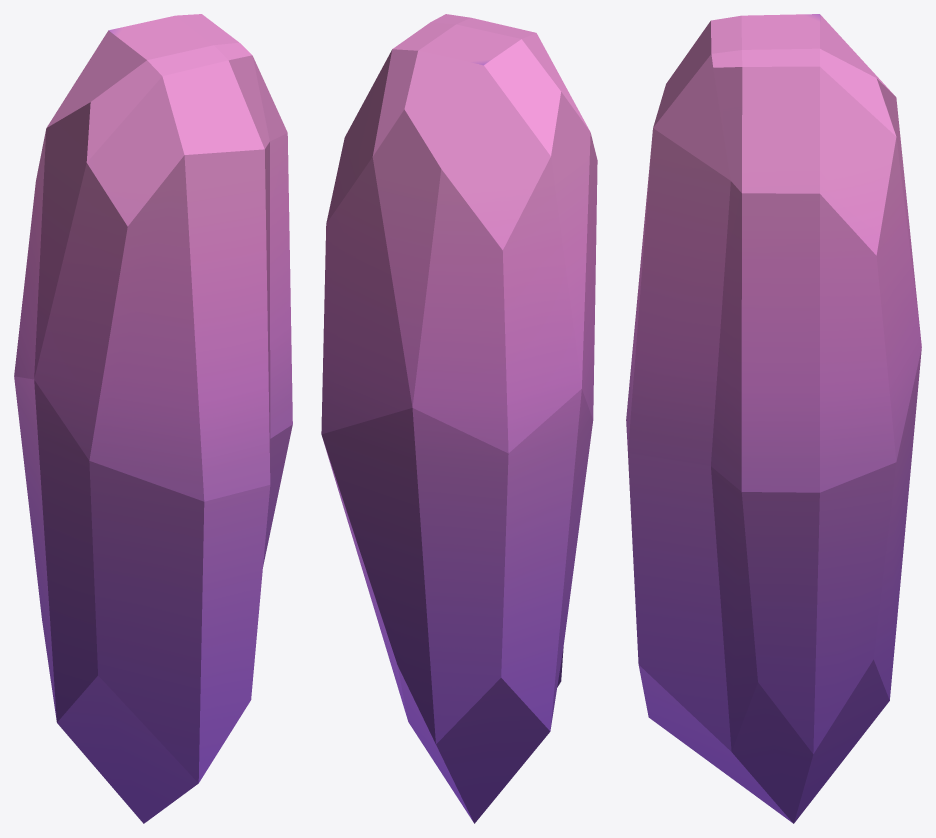
The model's file is Terrain_4.FBX.
The picture shows the model from 3 angles, left to right: view 1: azimuth 30°, elevation 25°; view 2: azimuth 150°, elevation 25°; view 3: azimuth 270°, elevation 25°; orthographic projection. The views are drawn at different scales.
Visible parts, largest first — view 1: Object003; view 2: Object003; view 3: Object003.
Part boxes in pixels (left/top/right/bottom): Object003: left=14, top=14, right=292, bottom=823; Object003: left=321, top=14, right=597, bottom=823; Object003: left=626, top=14, right=921, bottom=823.
Size of the model in its own units: 1408 by 4530 by 1520.
Materials: 1 (1 with a texture image).
